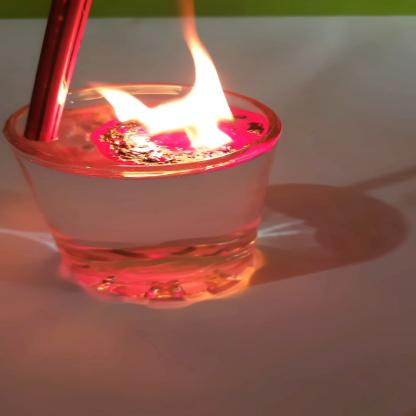Fire: (96, 0, 245, 164)
